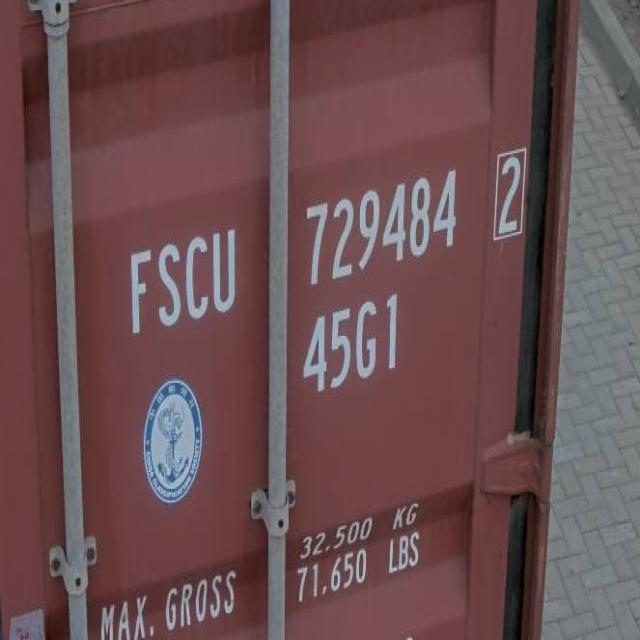dv: (490, 140, 529, 245)
owner: (119, 219, 242, 343)
serial: (300, 162, 460, 292)
size: (300, 294, 408, 398)
